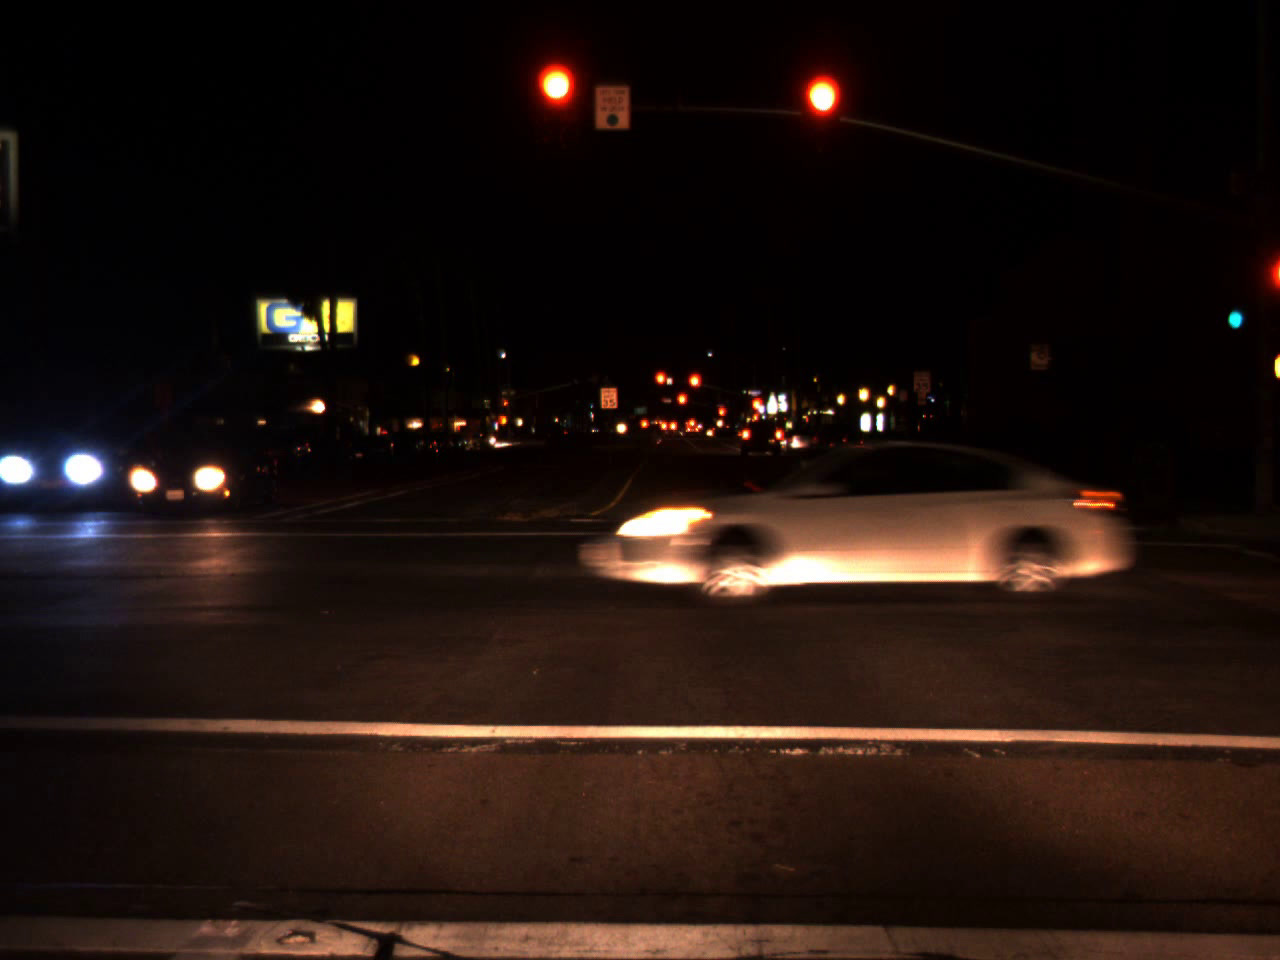stop: (537, 65, 577, 143), (801, 75, 841, 153), (686, 371, 703, 403), (653, 370, 666, 399), (676, 391, 688, 418), (749, 396, 764, 414), (717, 406, 727, 427), (502, 400, 508, 410)
